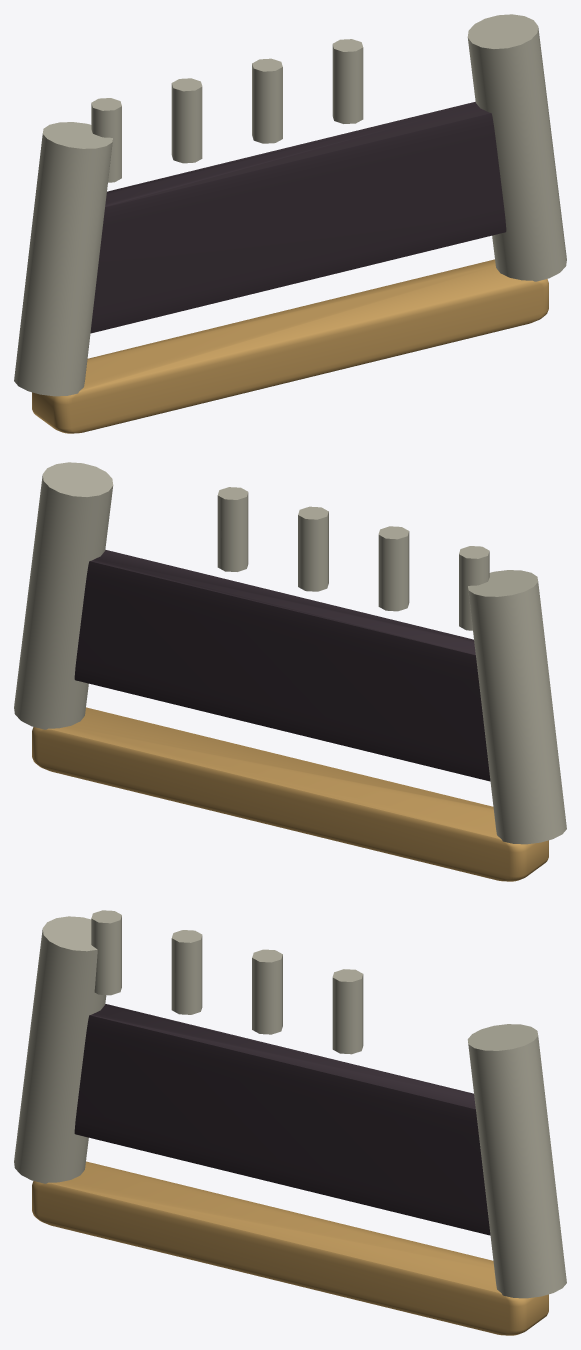
The model's file is Foundry.glb.
The picture shows the model from 3 angles, top to bottom: view 1: azimuth 30°, elevation 25°; view 2: azimuth 150°, elevation 25°; view 3: azimuth 330°, elevation 25°; orthographic projection.
Visible parts, largest first — view 1: Ribbon window, Vibrator fork (×2), Lift bridge, Eyelet (×4); view 2: Ribbon window, Vibrator fork (×2), Lift bridge, Eyelet (×4); view 3: Ribbon window, Vibrator fork (×2), Lift bridge, Eyelet (×4).
Part boxes in pixels (left/top/right/bottom): Ribbon window: left=90, top=101, right=506, bottom=333; Vibrator fork (×2): left=14, top=14, right=566, bottom=396; Lift bridge: left=32, top=259, right=548, bottom=433; Eyelet (×4): left=91, top=39, right=363, bottom=182; Ribbon window: left=74, top=549, right=490, bottom=781; Vibrator fork (×2): left=14, top=462, right=566, bottom=844; Lift bridge: left=32, top=707, right=548, bottom=881; Eyelet (×4): left=217, top=487, right=489, bottom=630; Ribbon window: left=74, top=1004, right=490, bottom=1235; Vibrator fork (×2): left=14, top=916, right=566, bottom=1298; Lift bridge: left=32, top=1161, right=548, bottom=1335; Eyelet (×4): left=91, top=910, right=363, bottom=1054.
Size of the model in its own units: 0.4736 by 0.2555 by 0.054.
